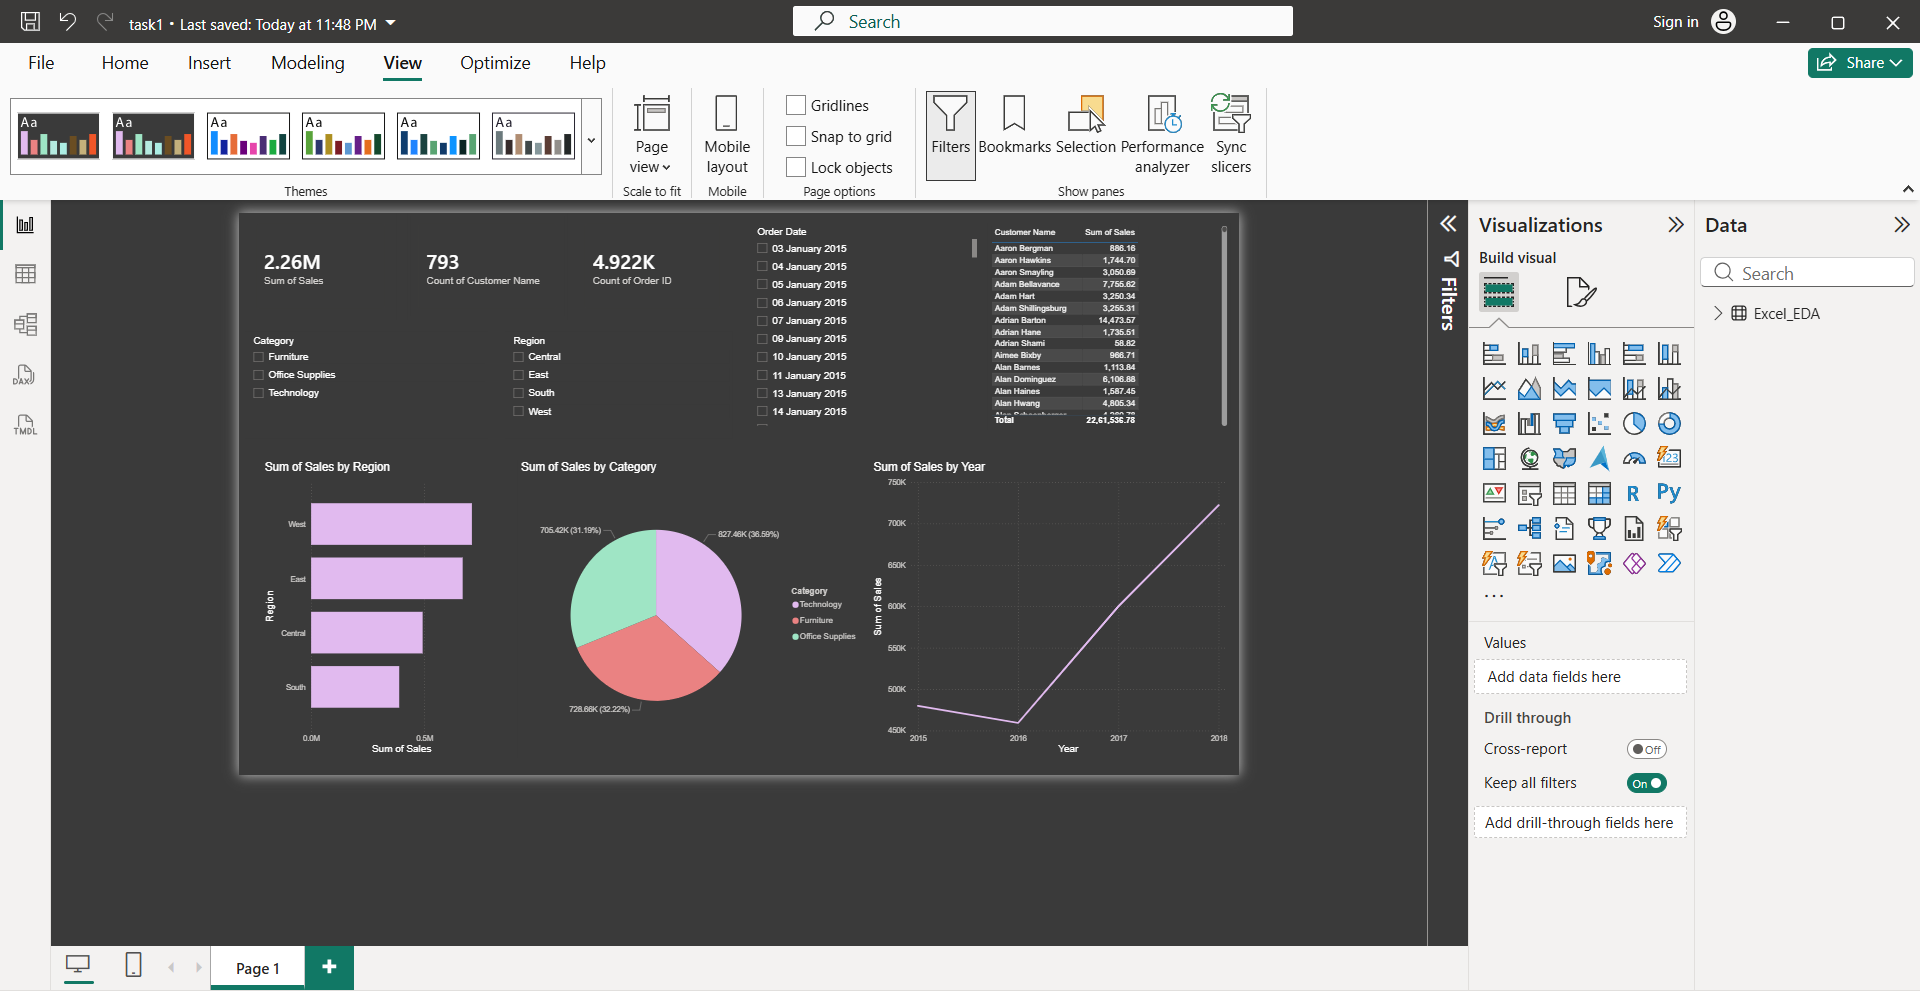

This screenshot's page, from the dashboard's own definition file:
{"tool":"powerbi","page":{"name":"Page 1","canvas":[1280,720],"ordinal":0},"visuals":[{"type":"cardVisual","title":"Total Sales","fields":{"Data":["Sum(Sheet1.Sales)"]},"box":[0,55.7,231.4,118.6],"z":0},{"type":"cardVisual","title":"Profit Margin","fields":{"Data":["Sheet1.Profit Margin KPI"]},"box":[470,48.6,231.4,134.3],"z":1000},{"type":"cardVisual","title":"Total Customers","fields":{"Data":["Count(Sheet1.Customer ID)"]},"box":[695.7,60,257.1,141.4],"z":3000},{"type":"clusteredBarChart","title":"Sales by Region","fields":{"Category":["Sheet1.Region"],"Y":["Sum(Sheet1.Sales)"]},"box":[24.3,174.3,264.3,214.3],"z":4000},{"type":"clusteredColumnChart","title":"Profit by Category","fields":{"Category":["Sheet1.Product_Category"],"Y":["Sum(Sheet1.Profit)"]},"box":[324.3,422.9,285.7,251.4],"z":5000},{"type":"lineChart","title":"Monthly Sales Trend","fields":{"Category":["Sheet1.MONTH"],"Y":["Sum(Sheet1.Sales)"]},"box":[650,205.7,320,412.9],"z":6000},{"type":"pieChart","title":"Sales by Segment","fields":{"Category":["Sheet1.Segment"],"Y":["Sum(Sheet1.Sales)"]},"box":[0,388.6,312.9,201.4],"z":6001},{"type":"tableEx","fields":{"Values":["Sheet1.Customer Name","Sum(Sheet1.Sales)"]},"box":[320,201.4,300,187.1],"z":6002},{"type":"slicer","fields":{"Values":["Sheet1.Region"]},"box":[998.6,11.4,225.7,162.9],"z":6003},{"type":"slicer","fields":{"Values":["Sheet1.Product_Category"]},"box":[1012.9,170,197.1,218.6],"z":6004},{"type":"slicer","fields":{"Values":["Sheet1.Segment"]},"box":[1008.6,577.1,260,142.9],"z":6005},{"type":"slicer","fields":{"Values":["Sheet1.Order Date"]},"box":[1008.6,411.4,271.4,150],"z":6006},{"type":"cardVisual","title":"Total Profit","fields":{"Data":["Sum(Sheet1.Profit)"]},"box":[231.4,67.1,241.4,127.1],"z":6007},{"type":"textbox","box":[0,0,650,48.6],"z":6008}]}

Visuals, with their boxes on the page's 1280x720 design canvas (x1, y1, x2, y2). These are canvas units, not pixel positions in the 1920x991 screenshot, which may show the page scaled, cropped or inside an application window:
"Total Sales" cardVisual: left=0, top=56, right=231, bottom=174
"Profit Margin" cardVisual: left=470, top=49, right=701, bottom=183
"Total Customers" cardVisual: left=696, top=60, right=953, bottom=201
"Sales by Region" clusteredBarChart: left=24, top=174, right=289, bottom=389
"Profit by Category" clusteredColumnChart: left=324, top=423, right=610, bottom=674
"Monthly Sales Trend" lineChart: left=650, top=206, right=970, bottom=619
"Sales by Segment" pieChart: left=0, top=389, right=313, bottom=590
tableEx - Sheet1.Customer Name x Sum(Sheet1.Sales): left=320, top=201, right=620, bottom=388
slicer - Sheet1.Region: left=999, top=11, right=1224, bottom=174
slicer - Sheet1.Product_Category: left=1013, top=170, right=1210, bottom=389
slicer - Sheet1.Segment: left=1009, top=577, right=1269, bottom=720
slicer - Sheet1.Order Date: left=1009, top=411, right=1280, bottom=561
"Total Profit" cardVisual: left=231, top=67, right=473, bottom=194
textbox: left=0, top=0, right=650, bottom=49
